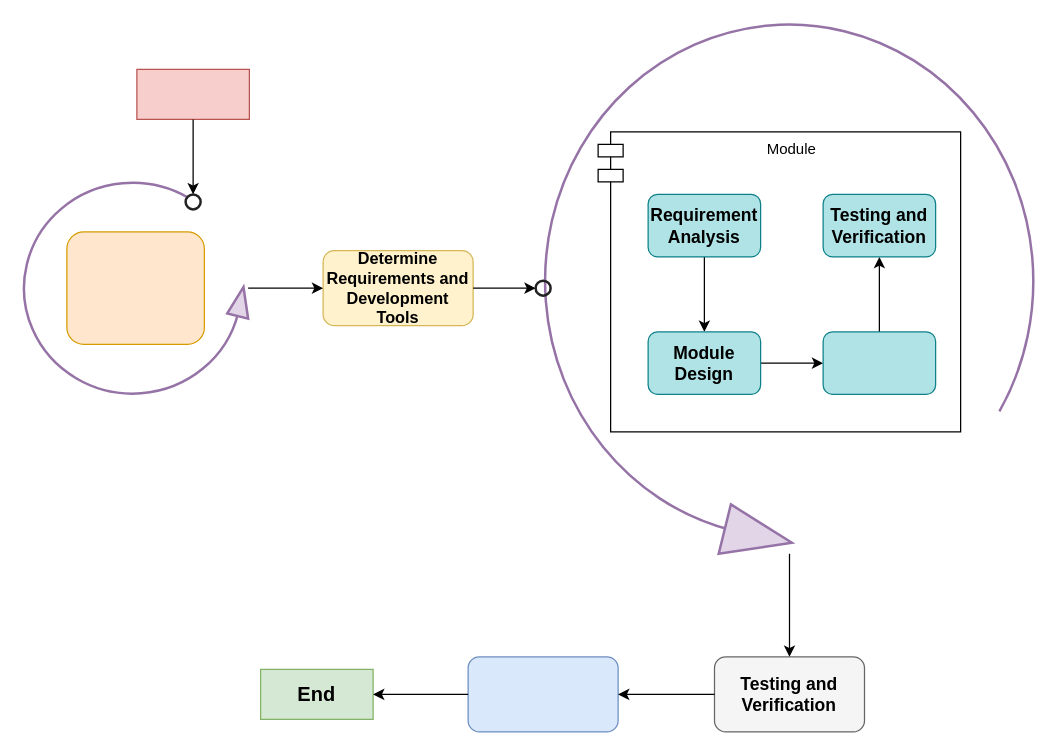
The diagram is 1058 pixels wide and 754 high, and some of its shapes have lost their labels. The centre of each missing label's shape, as x and y in pixels:
"Coding Implementation" goes at [879,362].
"Maintenance and Updates" goes at [542,694].
"Overall Project Requirement Analysis" goes at [135,287].
"Start" goes at [192,93].
